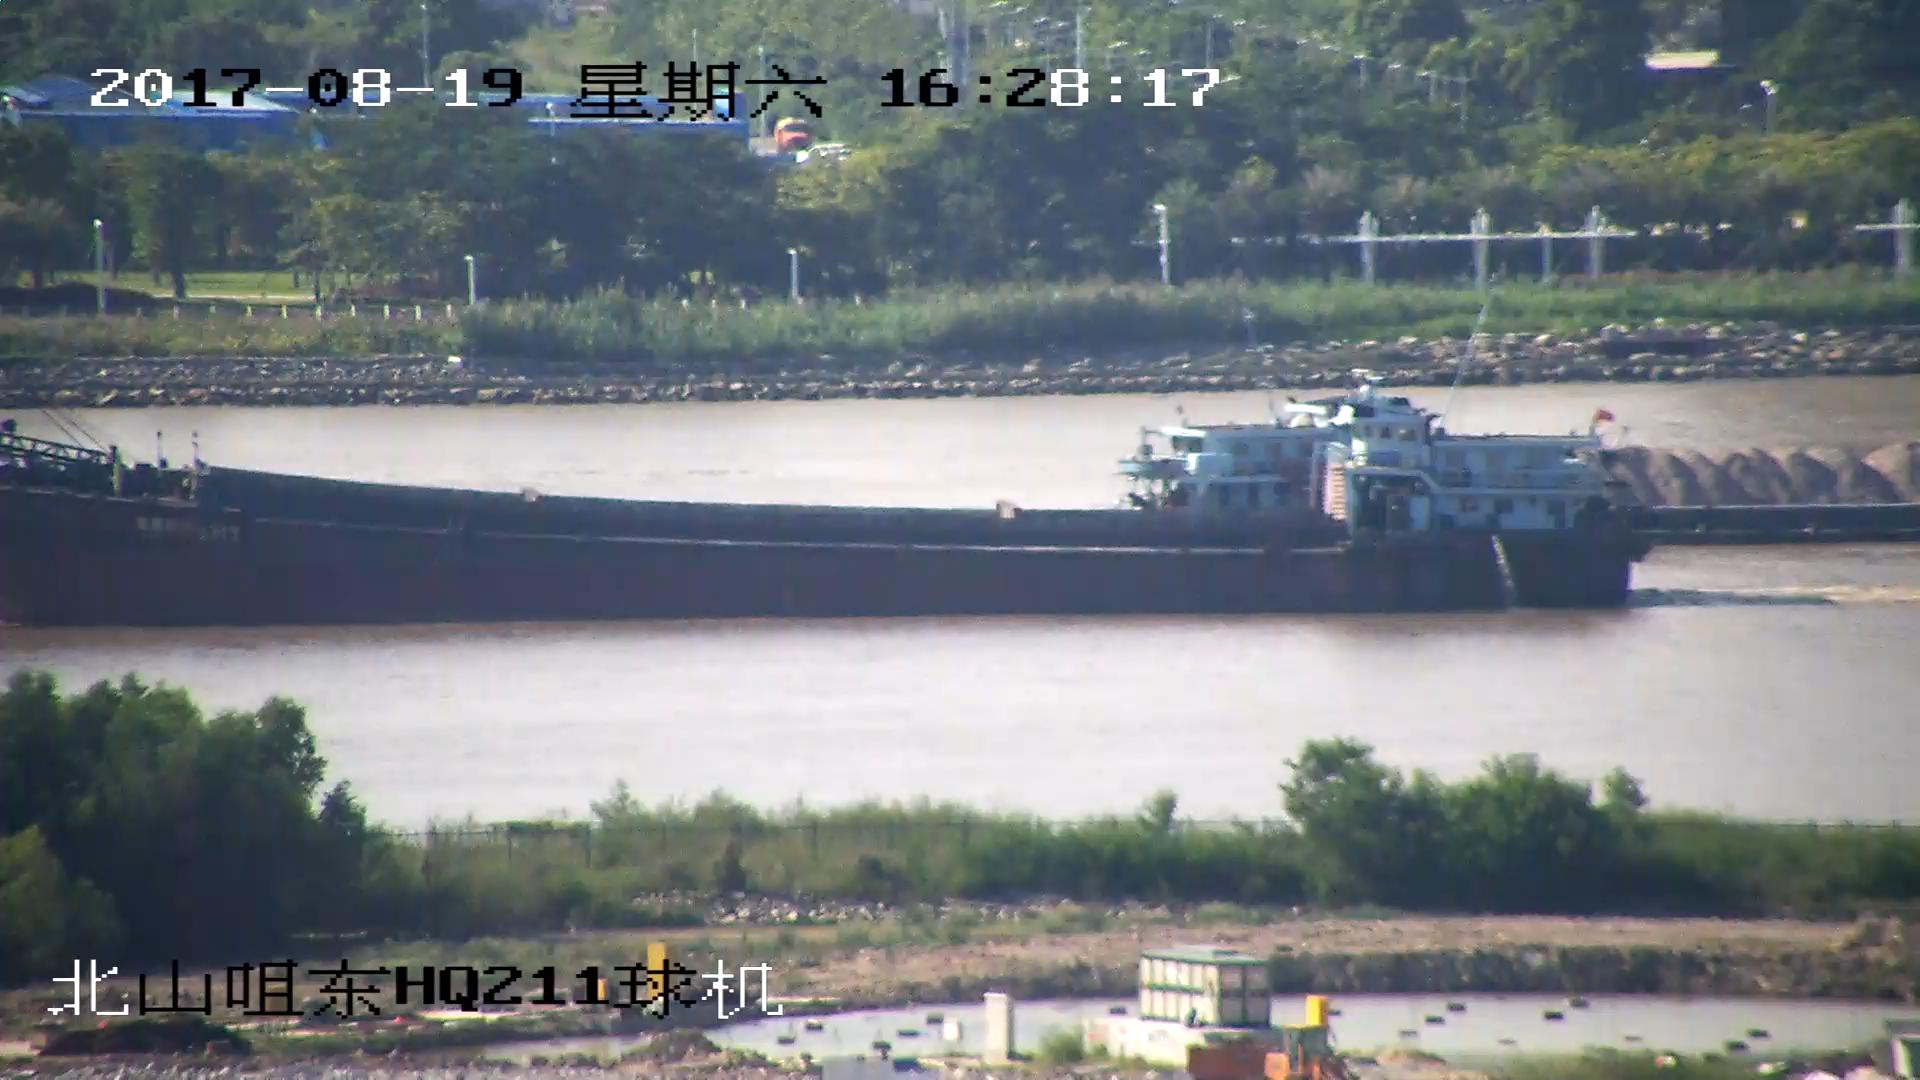bulk cargo carrier: (1, 404, 1640, 613)
ore carrier: (1124, 398, 1920, 551)
